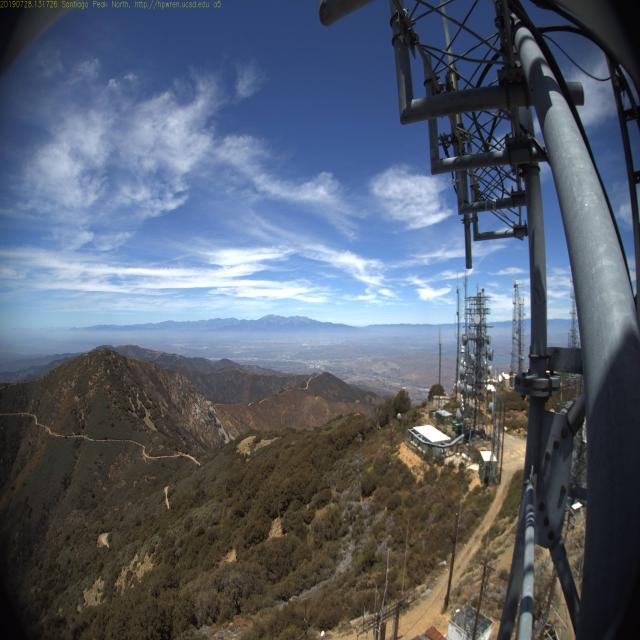smoke: (137, 332, 156, 348)
